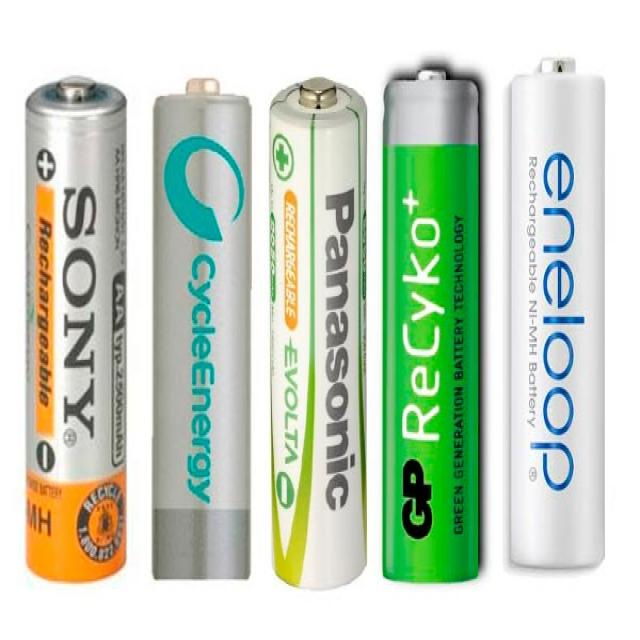non-organic waste: (27, 72, 128, 589), (384, 63, 484, 582), (268, 79, 366, 592), (510, 56, 606, 564), (154, 80, 249, 579)
